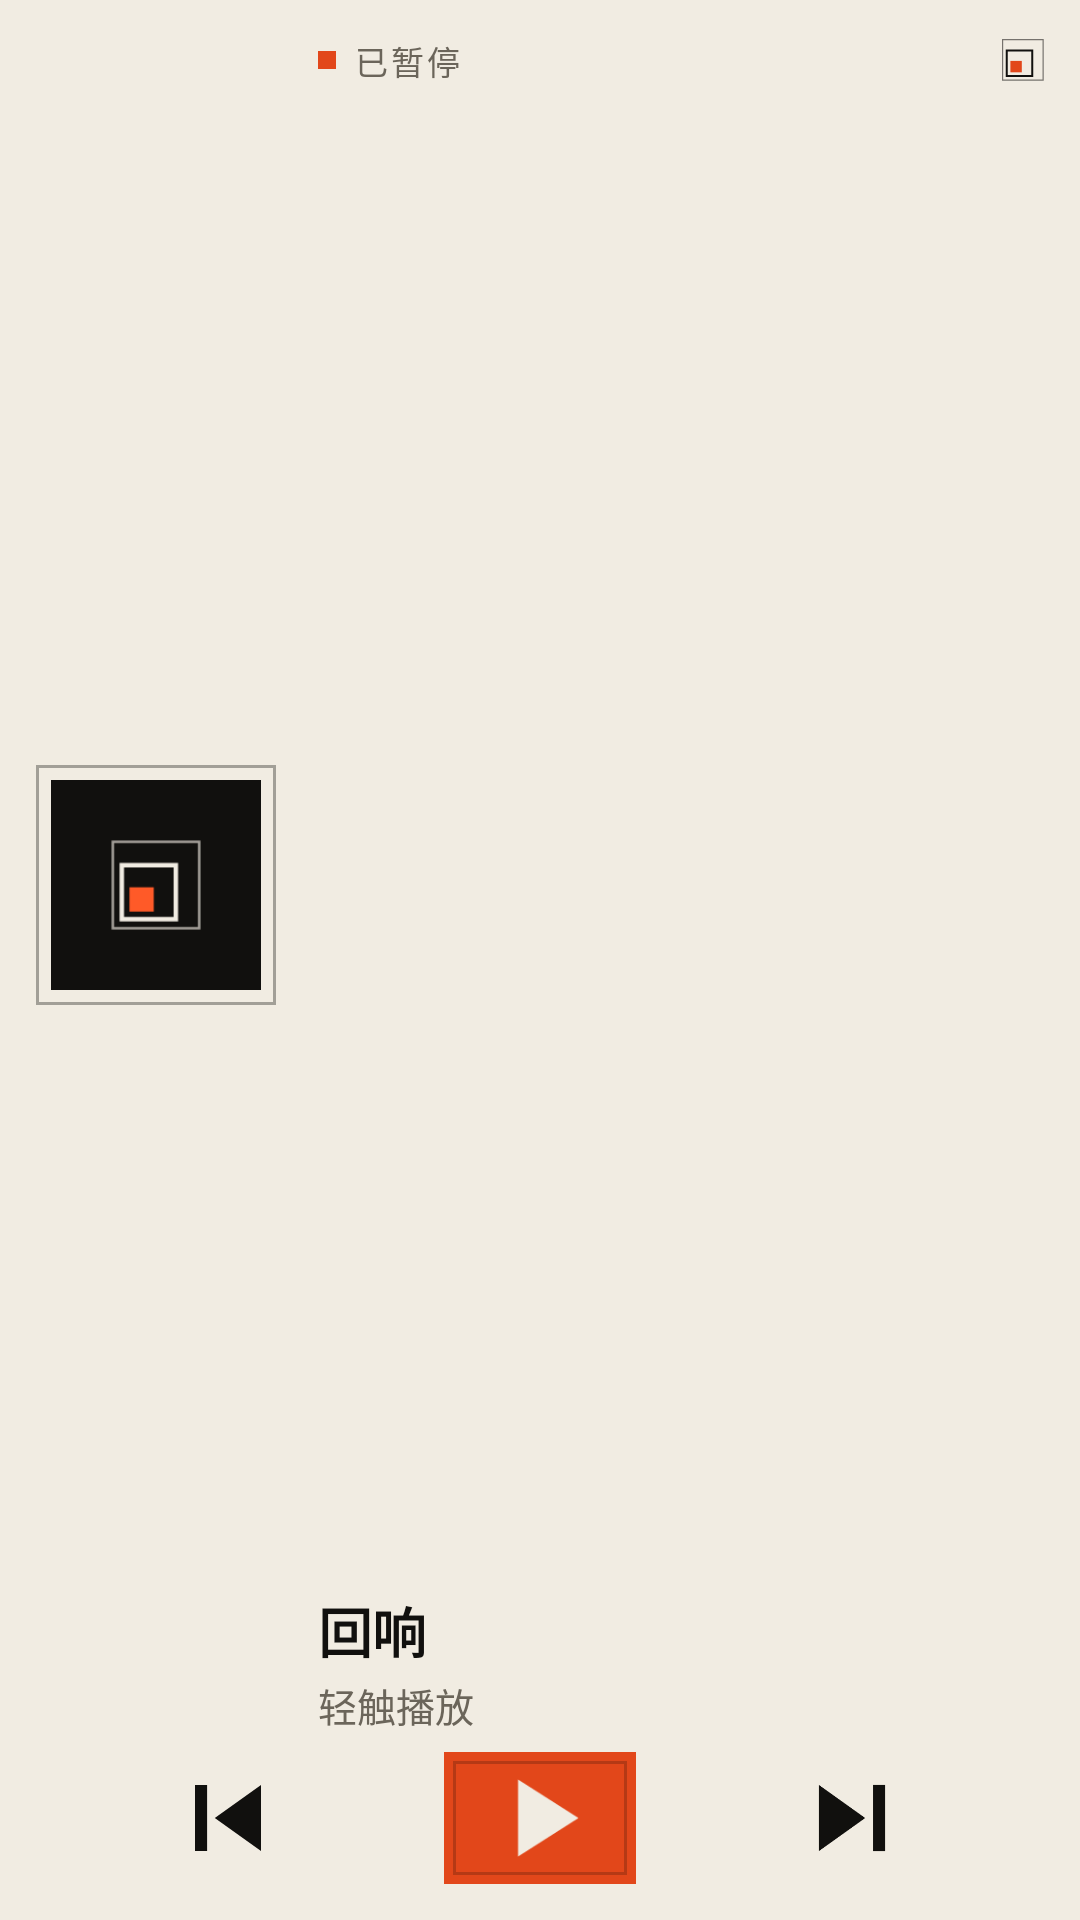

Screen size 1080×1920. Icon name, then its box in pixels as (x1, y1, x2, y2):
上一首: (195, 1785, 261, 1851)
下一首: (819, 1785, 885, 1851)
